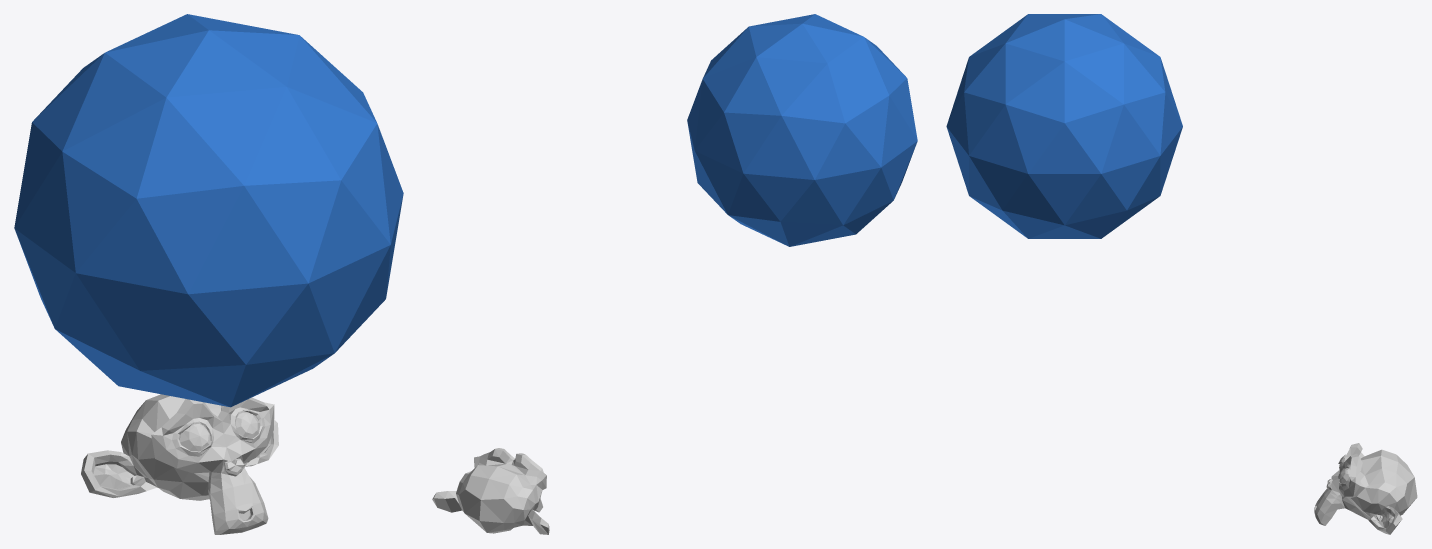
File: texture_05.dae
The picture shows the model from 3 angles, left to right: view 1: azimuth 30°, elevation 25°; view 2: azimuth 150°, elevation 25°; view 3: azimuth 270°, elevation 25°; orthographic projection. The views are drawn at different scales.
Visible parts, largest first — view 1: Icosphere, Suzanne; view 2: Icosphere, Suzanne; view 3: Icosphere, Suzanne.
Part boxes in pixels (x1,y1,x2,y2): Icosphere: (14, 14, 403, 407); Suzanne: (81, 394, 278, 534); Icosphere: (687, 14, 917, 246); Suzanne: (432, 448, 549, 534); Icosphere: (946, 14, 1182, 238); Suzanne: (1314, 443, 1417, 534).
Bounding box in the file's own units: 2.96 × 3.98 × 4.
